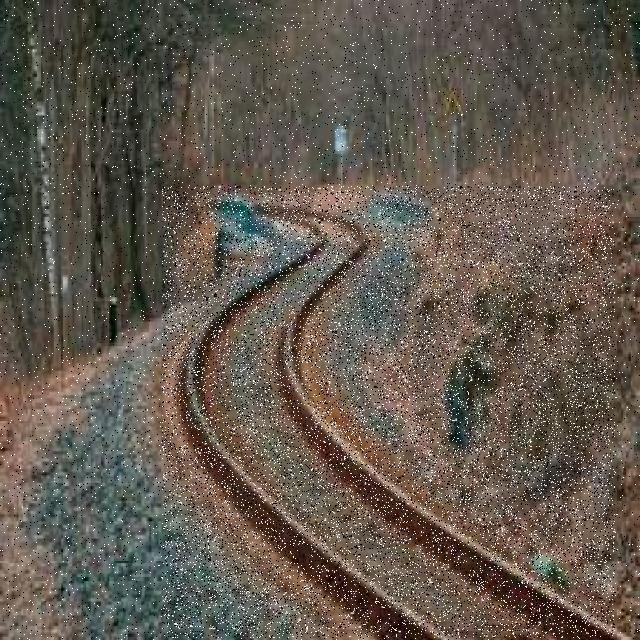rail: (163, 187, 615, 638)
